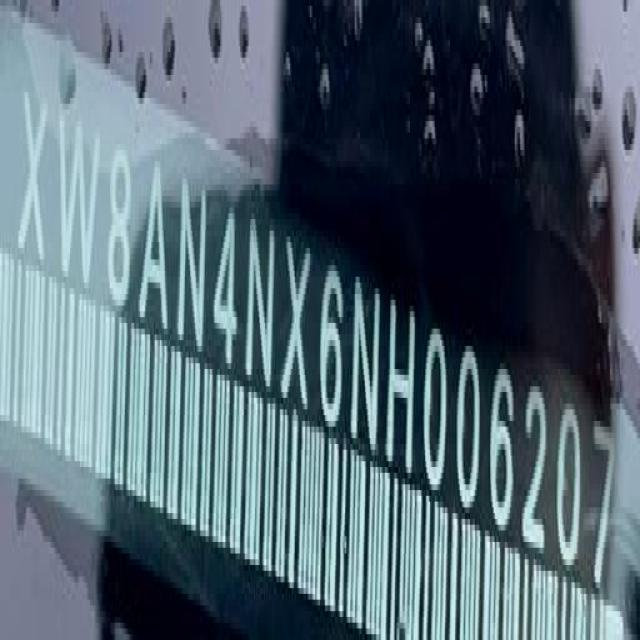0: (422, 322, 450, 504), (554, 393, 581, 578), (457, 341, 482, 521)
2: (524, 380, 549, 558)
4: (213, 192, 241, 379)
6: (490, 356, 518, 538), (317, 252, 344, 437)
7: (594, 412, 618, 606)
8: (108, 138, 134, 312)
A: (139, 152, 172, 338)
H: (390, 290, 418, 482)
N: (244, 206, 276, 401), (178, 174, 210, 364), (352, 273, 382, 466)
W: (54, 104, 100, 296)
X: (283, 221, 315, 421), (18, 82, 48, 272)
